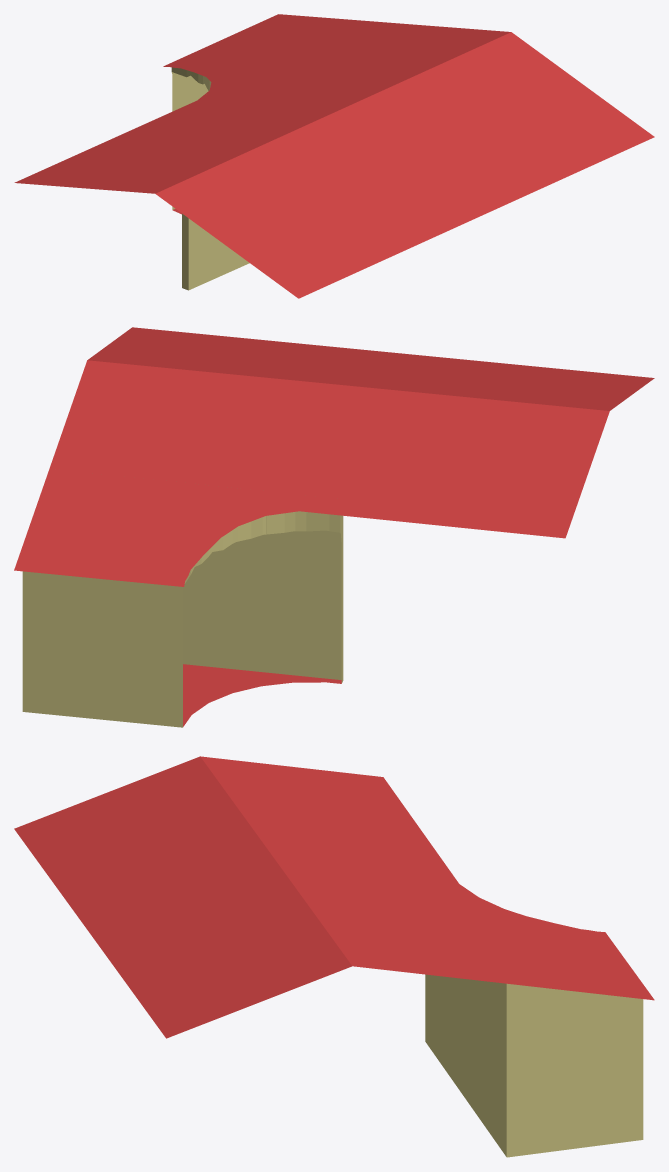
3 renders of one model, top to bottom at view 1: azimuth 30°, elevation 25°; view 2: azimuth 150°, elevation 25°; view 3: azimuth 270°, elevation 25°, orthographic. The views are drawn at different scales.
Size of the model in its own units: 30.56 by 32.12 by 11.83.
